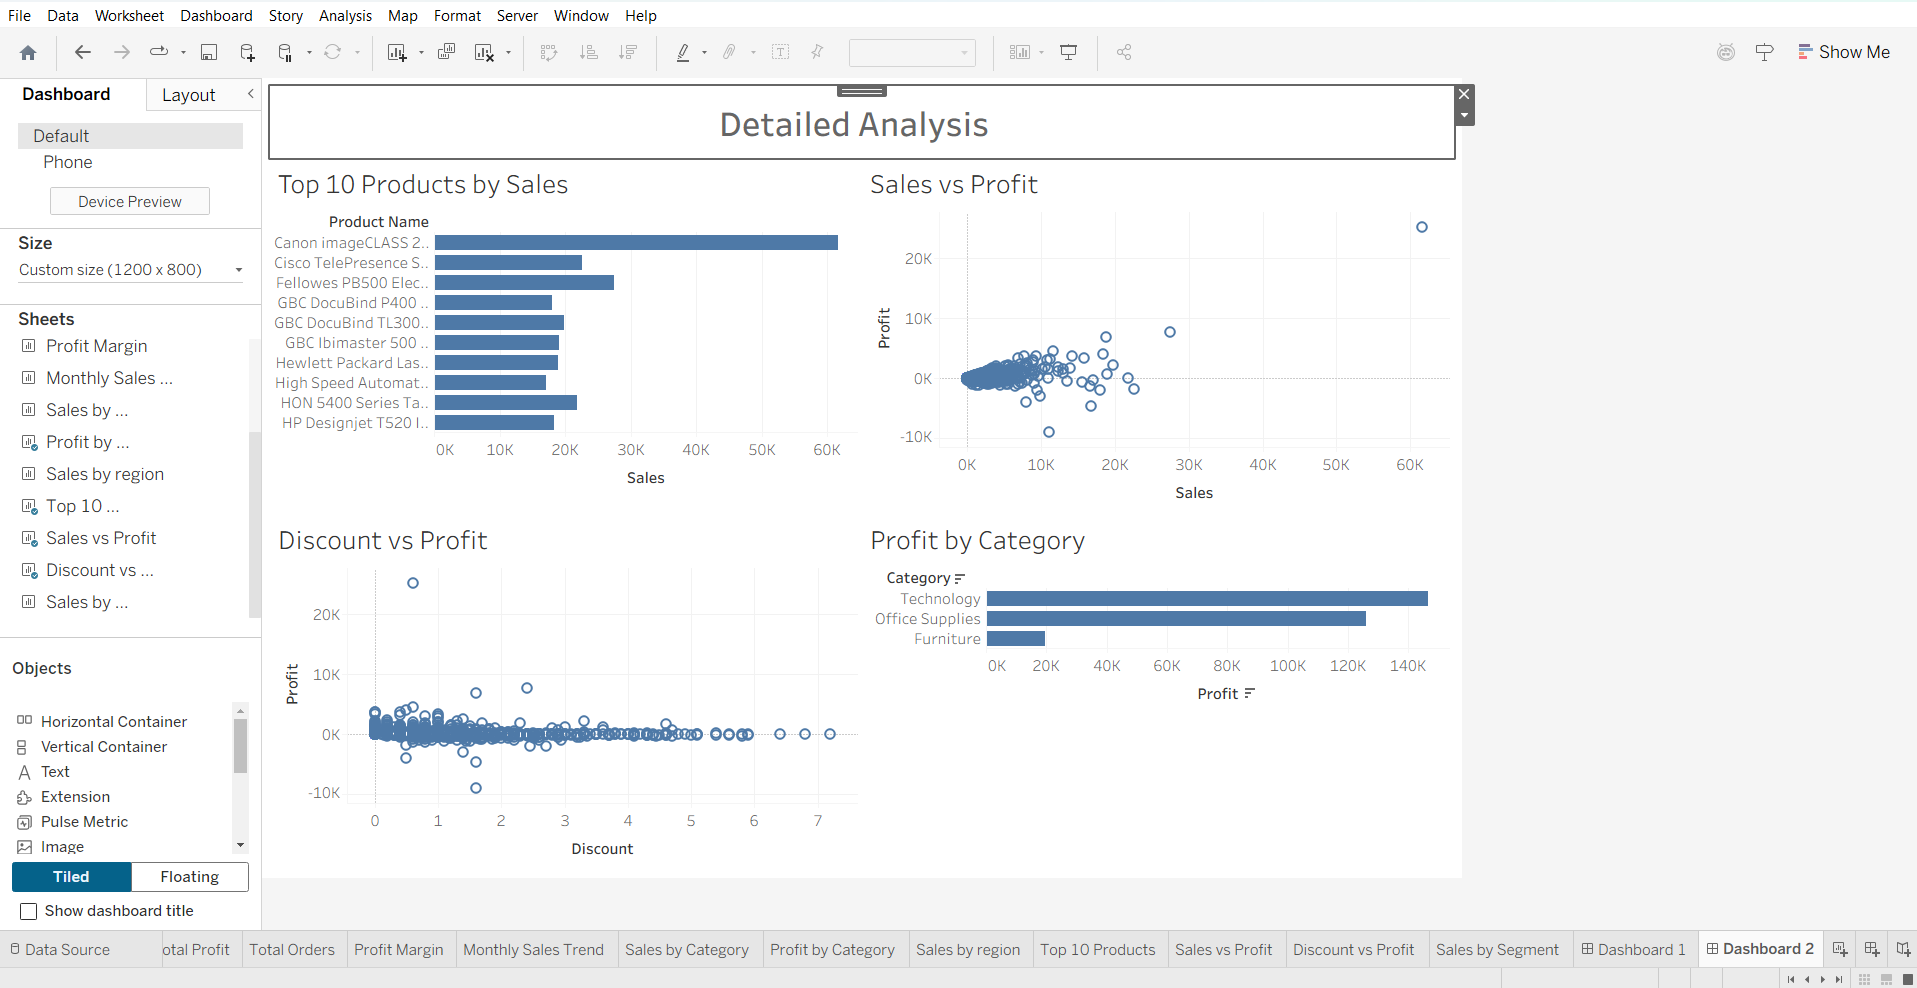

The dashboard page shown, as its layout file describes it:
{"tool":"tableau","page":{"name":"Dashboard 2","canvas":[1200,800],"ordinal":1},"visuals":[{"type":"text","box":[8,8,1184,72]},{"type":"worksheet","title":"Top 10 Products","mark":"Automatic","rows":["Product Name"],"cols":["Sales"],"box":[8,80,592,356]},{"type":"worksheet","title":"Sales vs Profit","mark":"Automatic","rows":["Profit"],"cols":["Sales"],"box":[600,80,592,356]},{"type":"worksheet","title":"Discount vs Profit","mark":"Automatic","rows":["Profit"],"cols":["Discount"],"box":[8,436,592,356]},{"type":"worksheet","title":"Profit by Category","mark":"Automatic","rows":["Category"],"cols":["Profit"],"box":[600,436,592,356]}]}

Visuals, with their boxes on the page's 1200x800 design canvas (x1, y1, x2, y2). These are canvas units, not pixel positions in the 1917x988 screenshot, which may show the page scaled, cropped or inside an application window:
text: Rect(8, 8, 1192, 80)
"Top 10 Products" worksheet: Rect(8, 80, 600, 436)
"Sales vs Profit" worksheet: Rect(600, 80, 1192, 436)
"Discount vs Profit" worksheet: Rect(8, 436, 600, 792)
"Profit by Category" worksheet: Rect(600, 436, 1192, 792)
